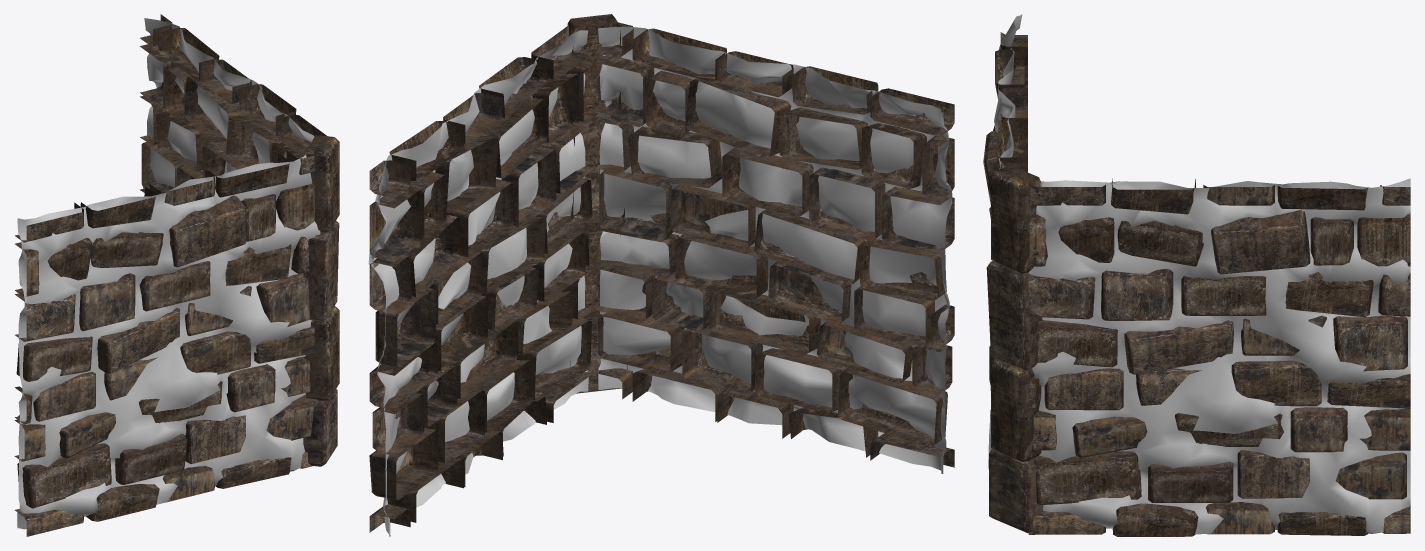
File: taureg_convex.dae
3 renders of one model, left to right at view 1: azimuth 30°, elevation 25°; view 2: azimuth 150°, elevation 25°; view 3: azimuth 270°, elevation 25°, orthographic. The views are drawn at different scales.
Visible parts, largest first — view 1: LO__2___2_, Mesh__2_; view 2: LO__2___2_, Mesh__2_; view 3: LO__2___2_, Mesh__2_.
Part boxes in pixels (box(x1,y1,x2,y2)): LO__2___2_: box(14, 14, 339, 536); Mesh__2_: box(17, 18, 320, 529); LO__2___2_: box(369, 14, 954, 532); Mesh__2_: box(368, 26, 952, 536); LO__2___2_: box(983, 32, 1410, 536); Mesh__2_: box(988, 14, 1410, 534).
Bounding box in the file's own units: 4.47 × 4.06 × 4.48.
